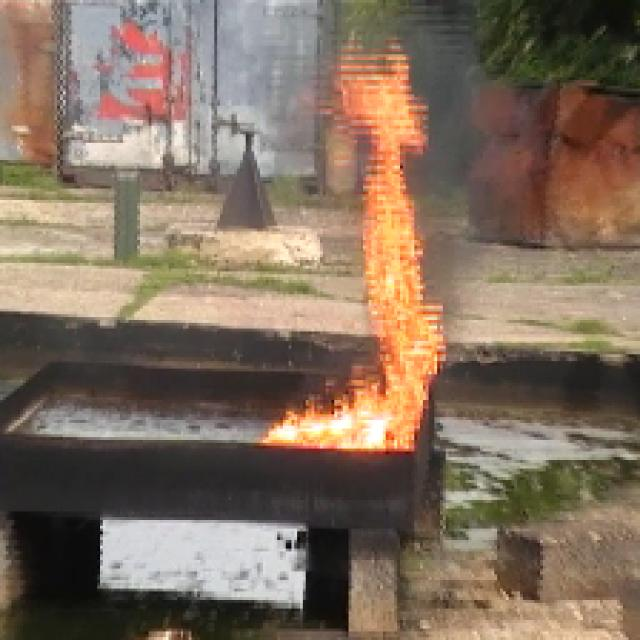fire: (316, 57, 433, 455)
